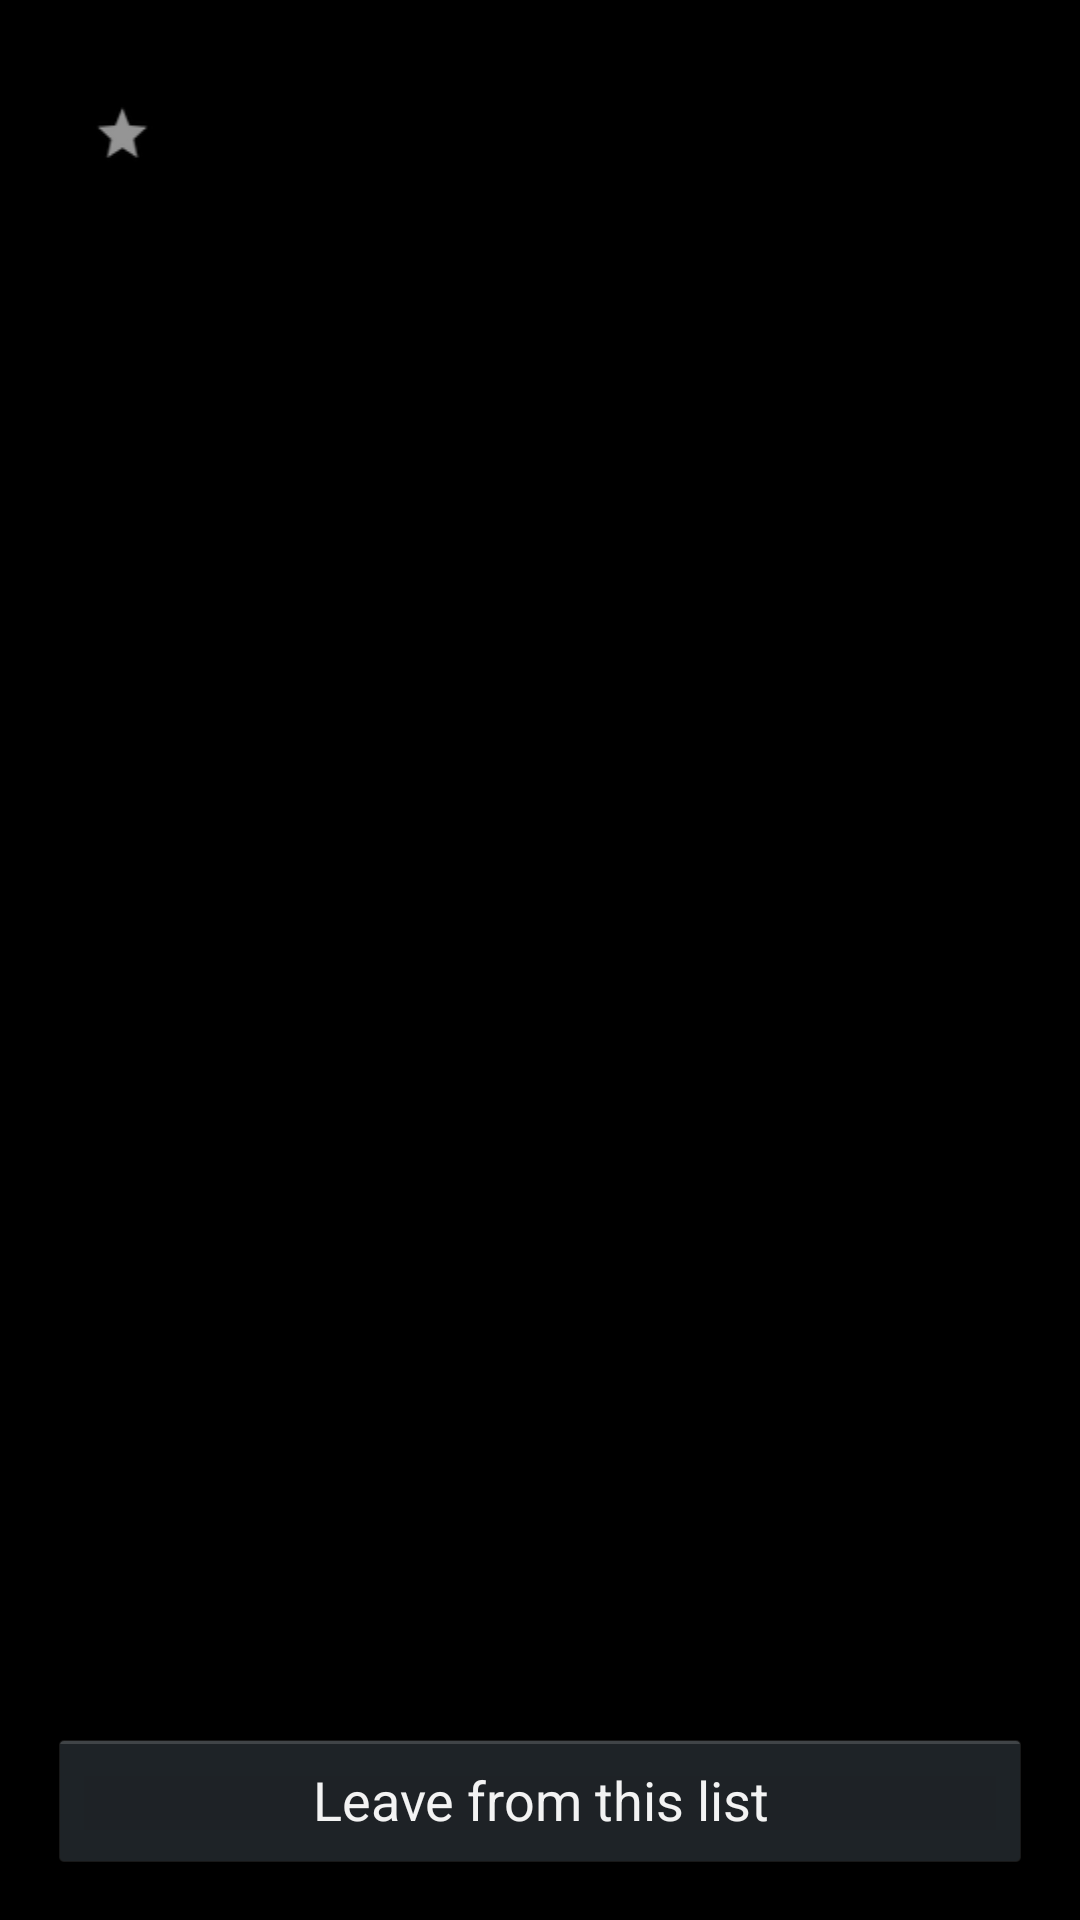

Icons on this 1080px×1920px Android screen, each with its box as (x1, y1, x2, y2):
star: (98, 109, 147, 158)
